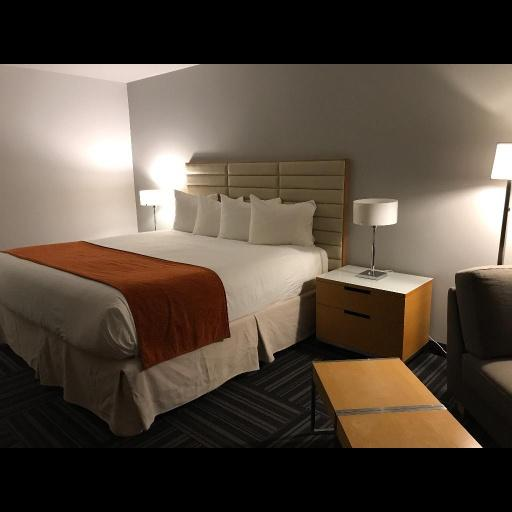clean_bed: (0, 157, 345, 440)
lamp: (349, 195, 402, 281), (490, 140, 510, 268), (132, 187, 172, 228)
organised_pillow: (175, 185, 320, 246)
organized table: (309, 354, 481, 452)
